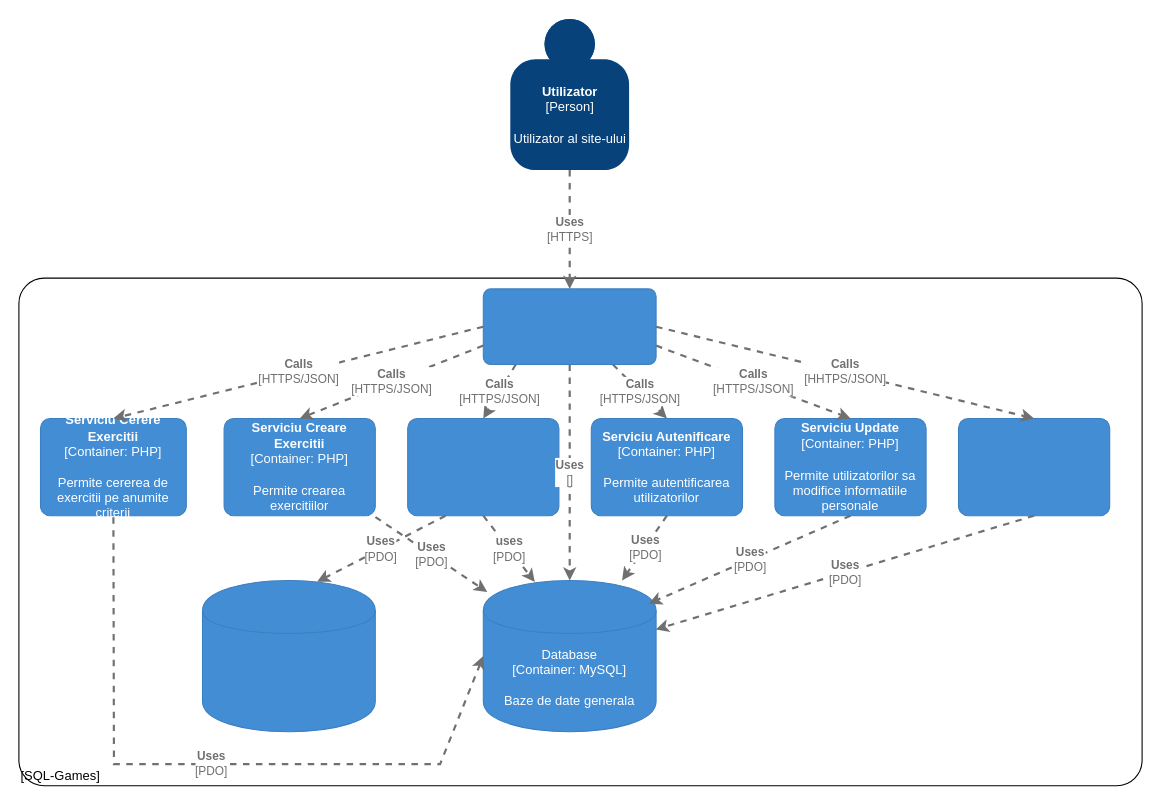
Image size: 1161x805. Some labels were removed from this diagram. Each missing label, with the centre of its shape:
"Database [Container: MySQL] Baze de date exercitii" goes at (288,655).
"Serviciu Inregistrare [Container: PHP] Permite utilizatorilor sa isi creeze cont" goes at (1033,466).
"Serviciu Rezolvare exercitii [Container: PHP] Permite rezolvarea de exercitii" goes at (483,466).
"Site Web [Container: PHP]" goes at (569,326).
